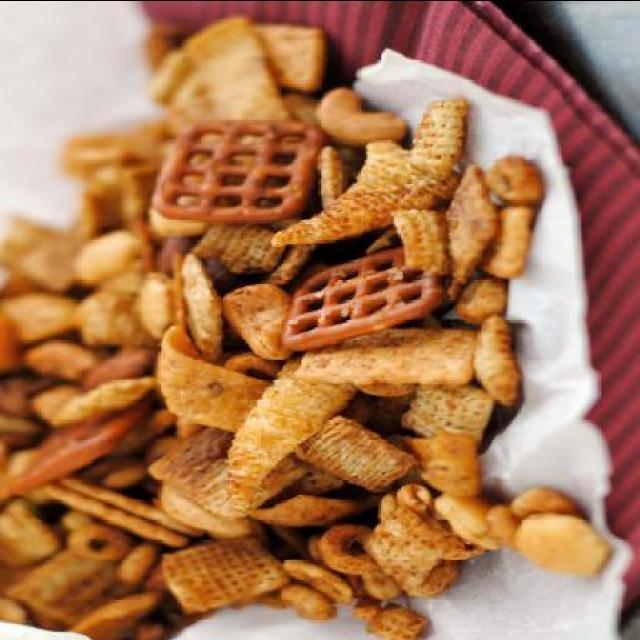Salatini packaged: (10, 31, 608, 626)
